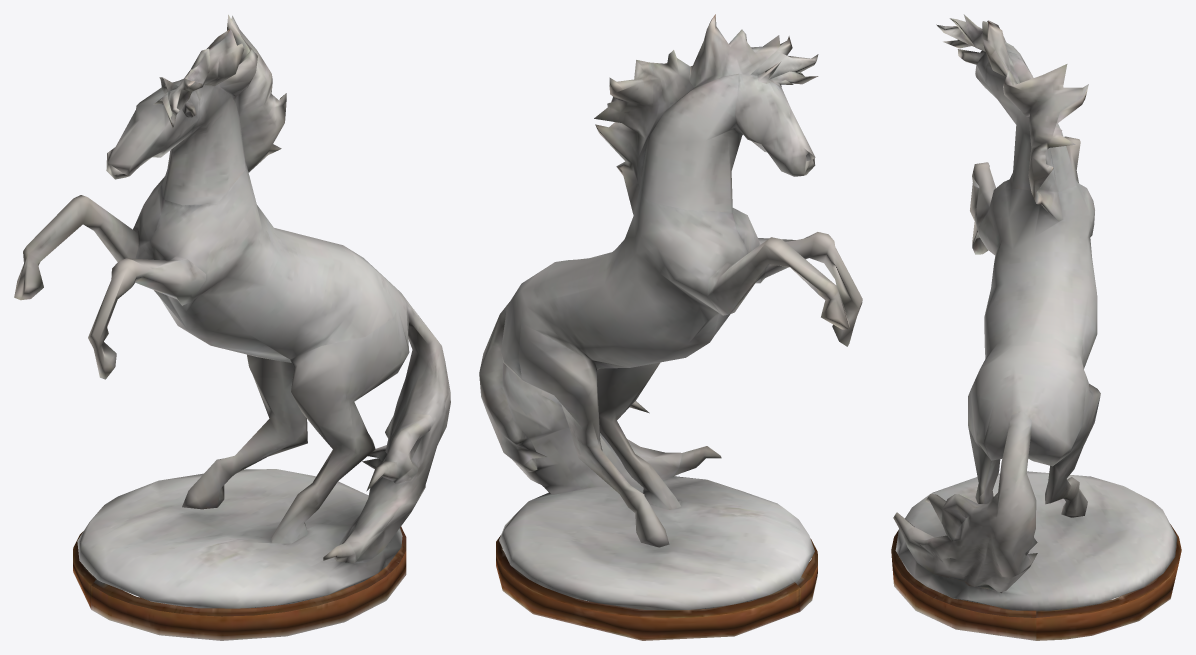
Rendered from statue_horse.glb.
3 views of the same model, side by side, from view 1: azimuth 30°, elevation 25°; view 2: azimuth 150°, elevation 25°; view 3: azimuth 270°, elevation 25° (orthographic). The views are drawn at different scales.
Parts seen in each view (by area): view 1: statue_horse; view 2: statue_horse; view 3: statue_horse.
Boxes of the visible parts, bbox=[...] form: statue_horse: bbox=[14, 14, 450, 640]; statue_horse: bbox=[479, 14, 862, 640]; statue_horse: bbox=[891, 14, 1181, 640].
Bounding box in the file's own units: 0.6669 × 0.8979 × 0.441.
1 material, 1 textured.
